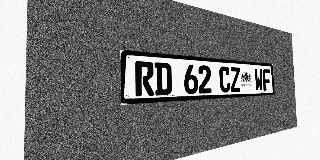2: (198, 65, 211, 94)
6: (184, 64, 198, 94)
C: (219, 66, 231, 93)
D: (155, 62, 172, 95)
F: (262, 69, 271, 91)
R: (135, 61, 154, 96)
W: (254, 68, 263, 91)
Z: (230, 67, 241, 92)
